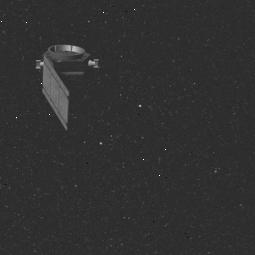earth_observation_sat_1: (24, 40, 105, 128)
